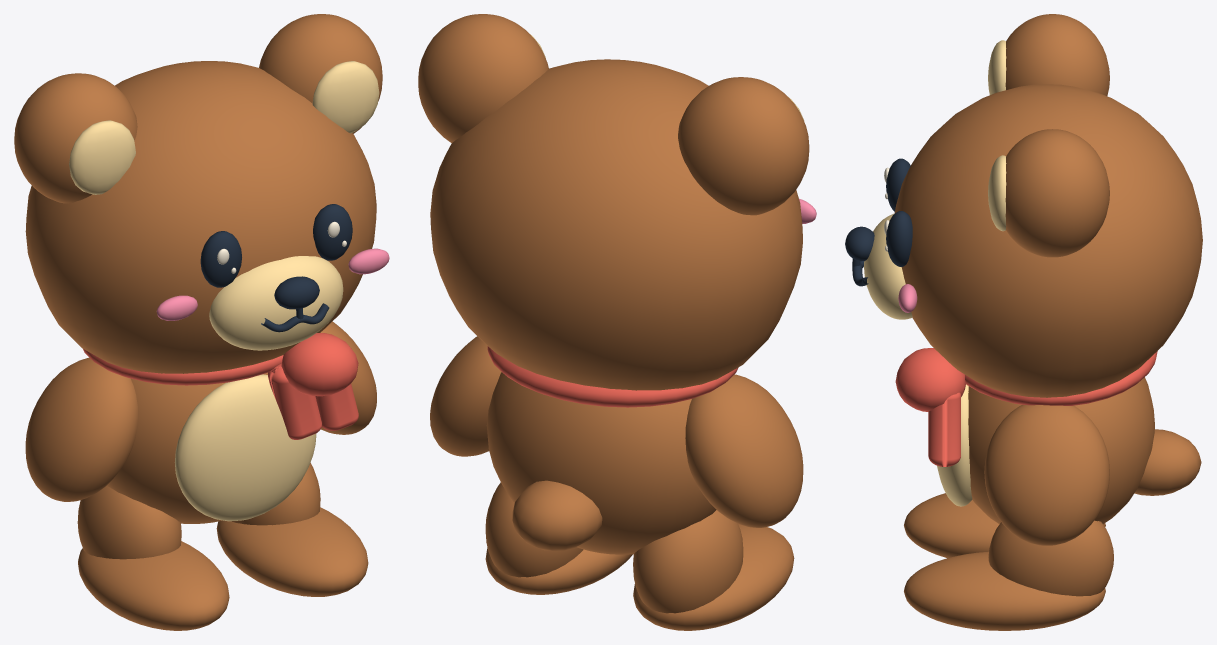
Rendered from bear.glb.
3 views of the same model, side by side, from view 1: azimuth 30°, elevation 25°; view 2: azimuth 150°, elevation 25°; view 3: azimuth 270°, elevation 25° (orthographic). The views are drawn at different scales.
Parts seen in each view (by area): view 1: Honey bear, Butter, Coral, Ink, Rose; view 2: Honey bear, Coral; view 3: Honey bear, Coral, Butter, Ink.
Part boxes in pixels (x1,y1,x2,y2): Honey bear: (14, 14, 382, 630); Butter: (69, 61, 379, 521); Coral: (83, 333, 358, 439); Ink: (200, 204, 352, 332); Rose: (156, 248, 389, 320); Honey bear: (418, 14, 809, 630); Coral: (487, 346, 738, 407); Honey bear: (894, 14, 1202, 630); Coral: (895, 348, 1157, 466); Butter: (864, 40, 1006, 506); Ink: (845, 158, 912, 286).
Bounding box in the file's own units: 1.96 × 2.79 × 1.77.
